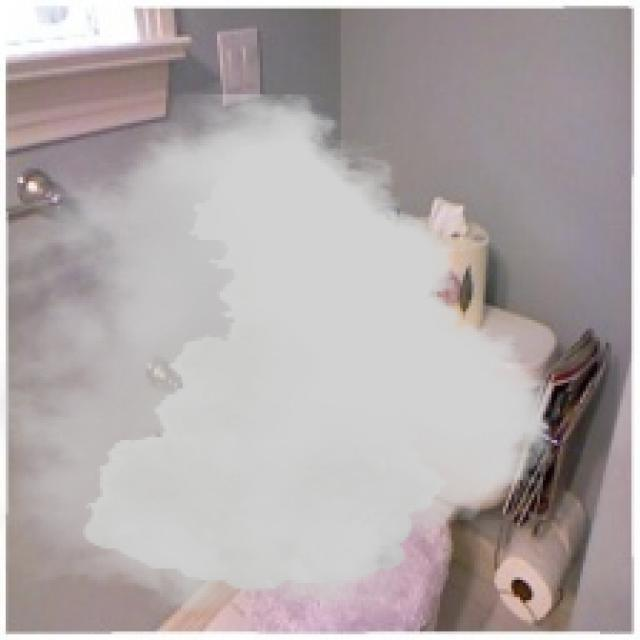Smoke: (0, 94, 552, 615)
